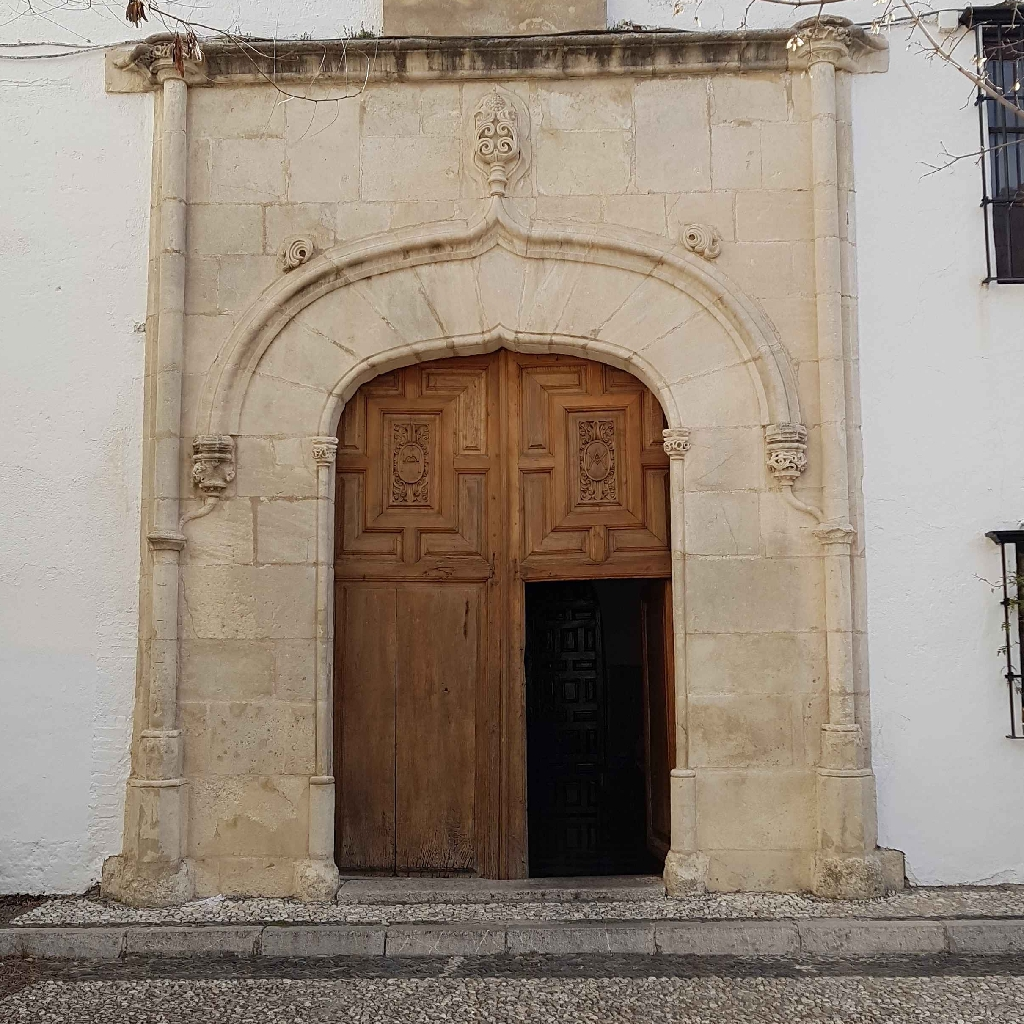arco-conopial: (263, 200, 762, 304), (333, 313, 672, 384)
